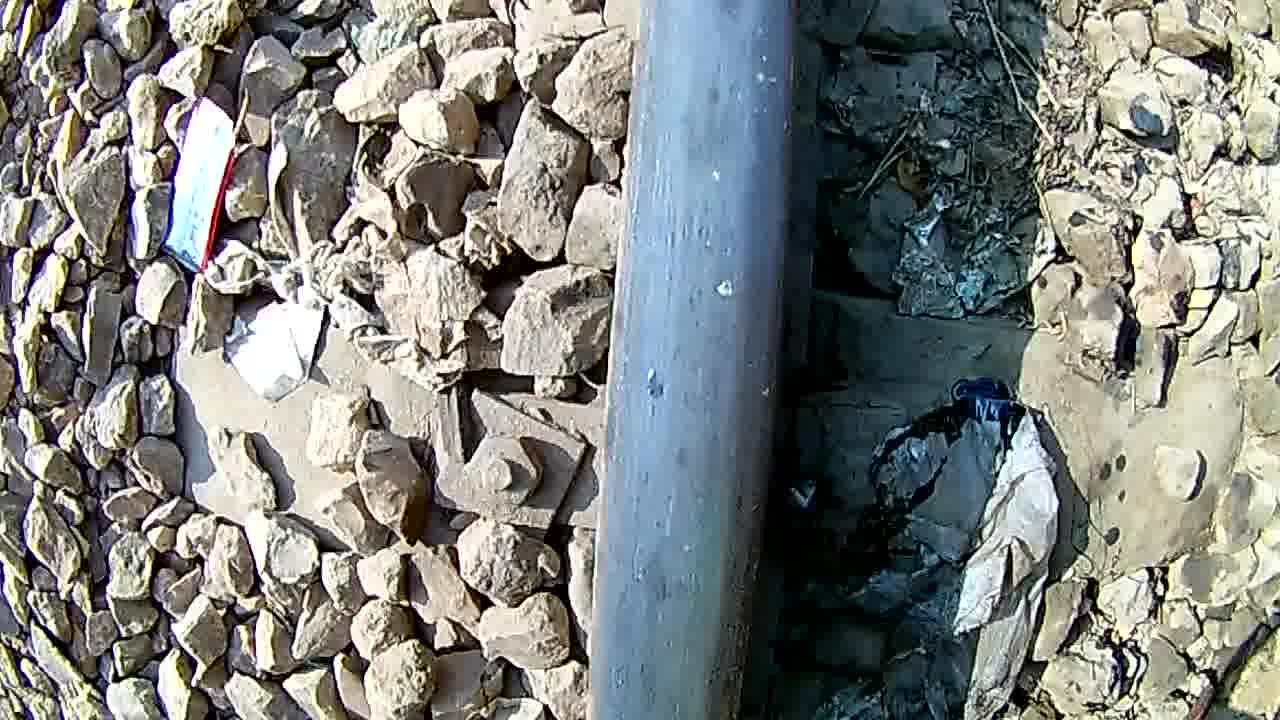bolt_missing: (624, 3, 774, 720)
